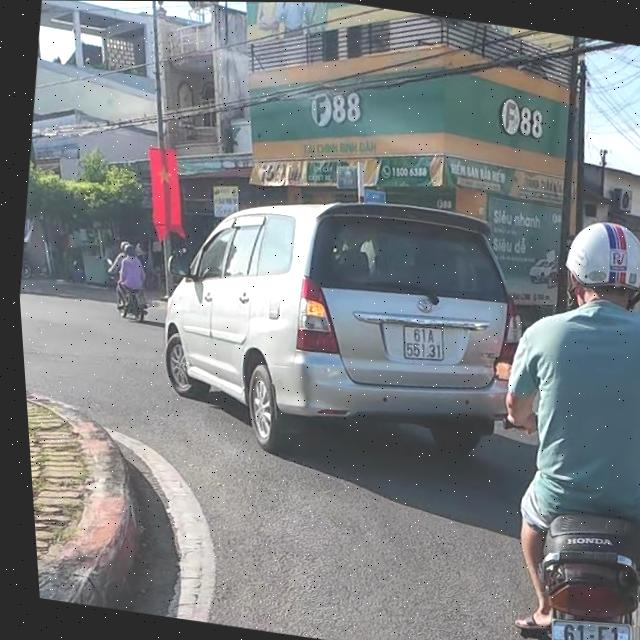car: (140, 169, 545, 490)
motorcycle: (507, 504, 640, 640)
plate: (390, 316, 456, 367), (536, 610, 640, 640)
